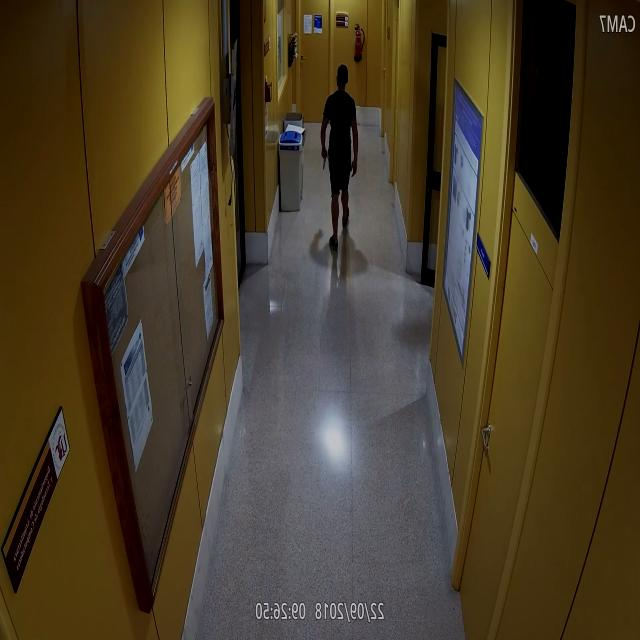pistol: (320, 147, 329, 169)
